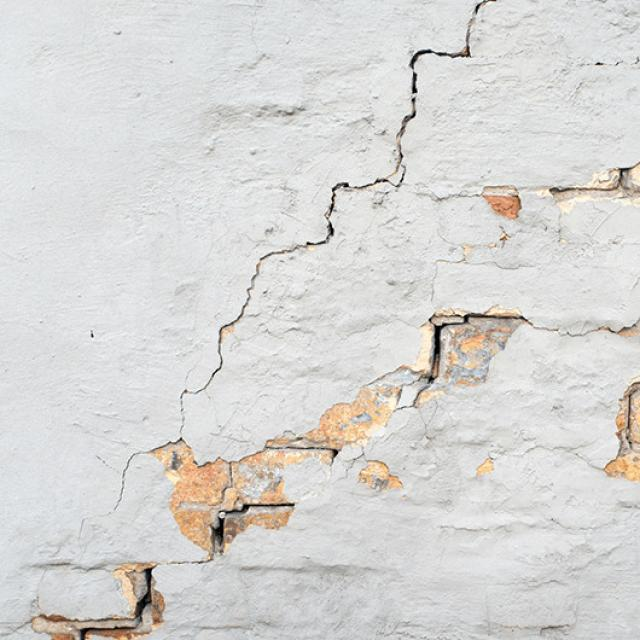Crack: (76, 0, 483, 535), (74, 310, 513, 639), (552, 163, 639, 193)
